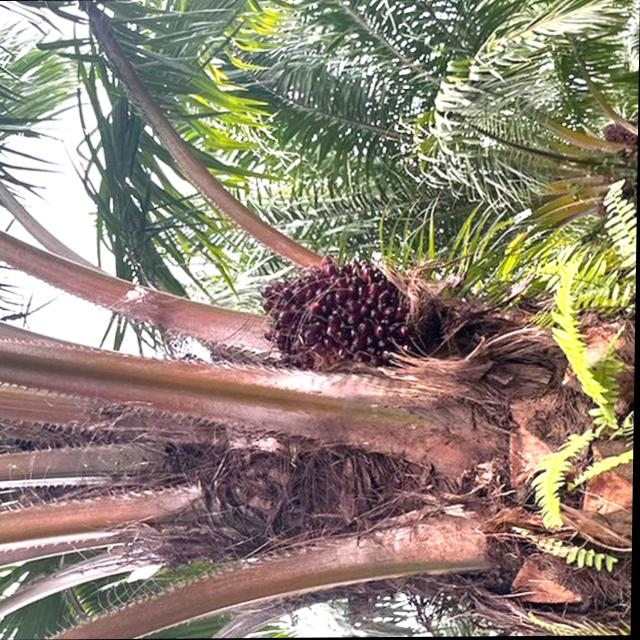ripe: (241, 250, 419, 373)
